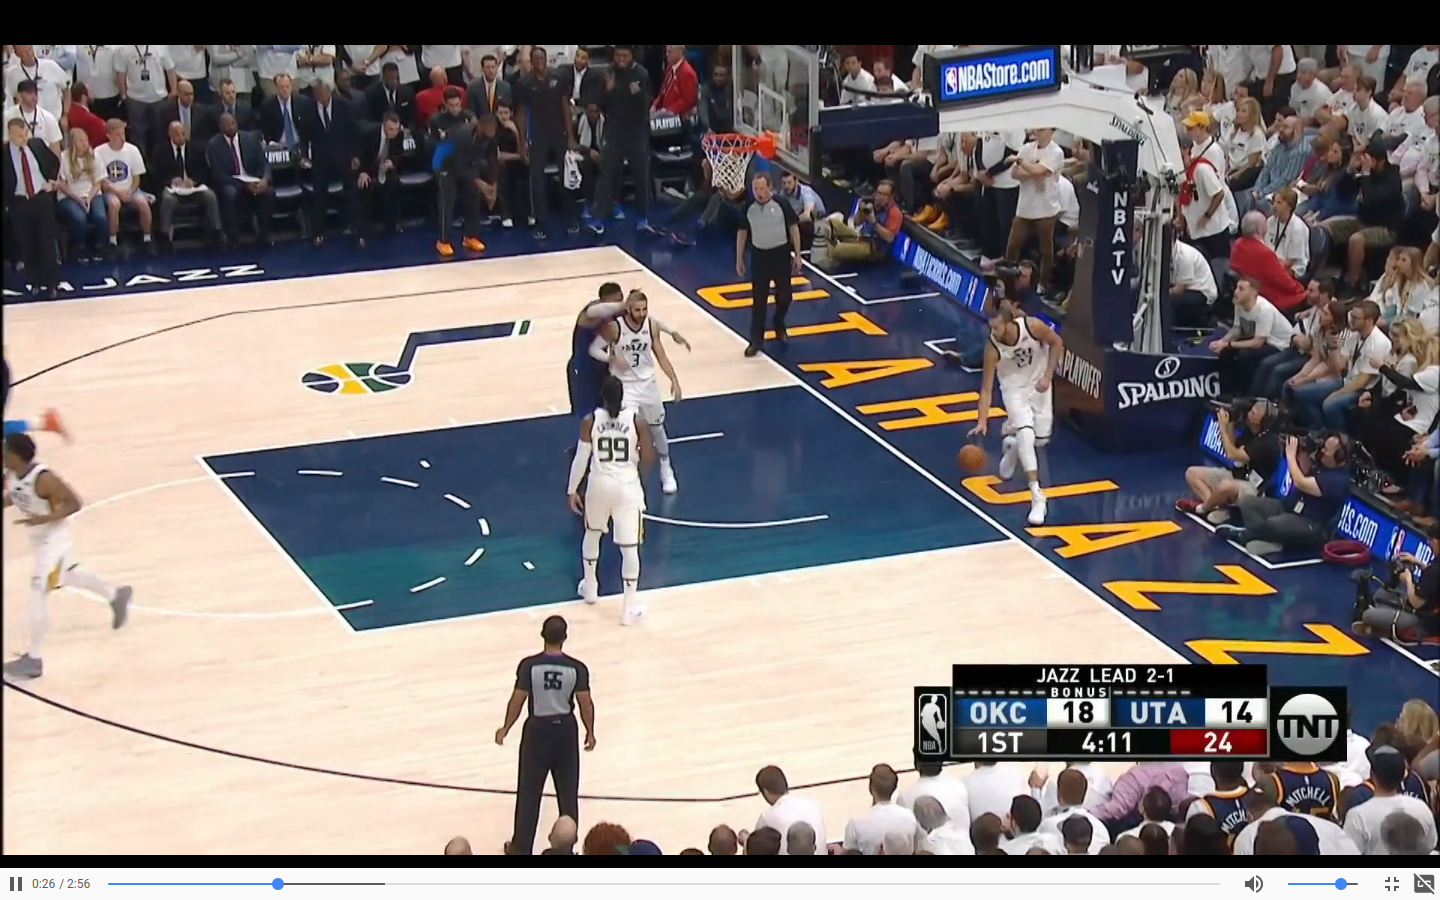basketball: (956, 439, 992, 480)
basketball player: (4, 428, 145, 689), (565, 379, 662, 606), (976, 302, 1067, 531), (612, 292, 687, 499), (558, 279, 625, 411)
referee: (495, 611, 605, 852), (732, 171, 801, 360)
